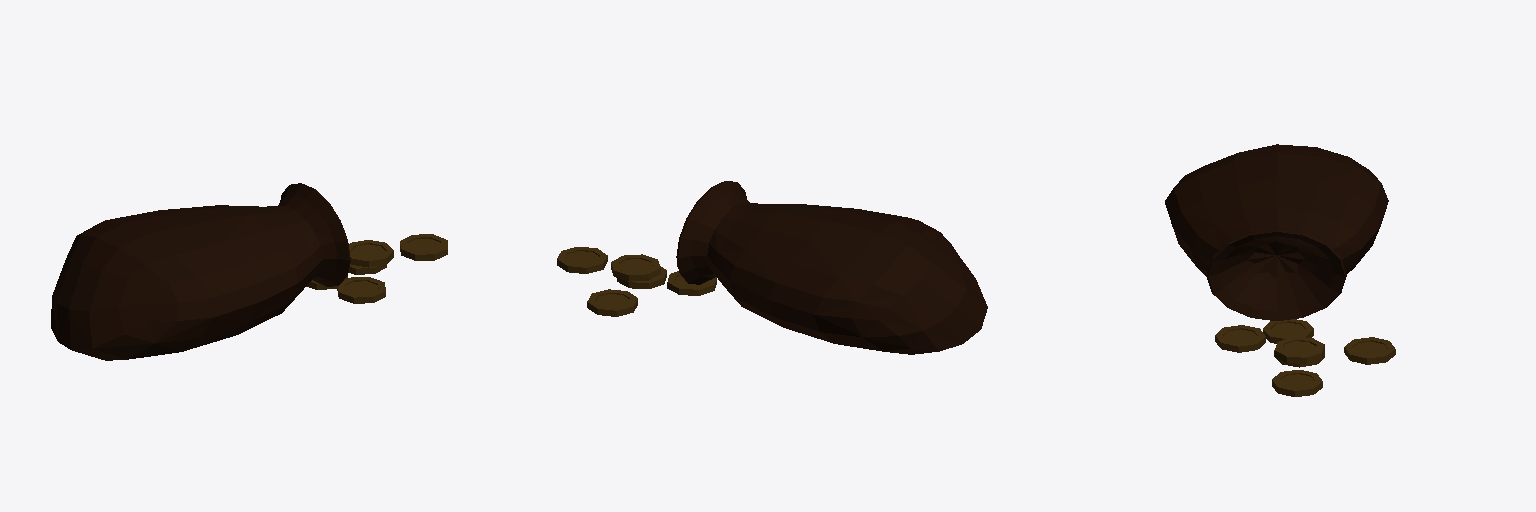
Rendered from Bag_Coins.obj.
The picture shows the model from 3 angles: view 1: azimuth 30°, elevation 25°; view 2: azimuth 150°, elevation 25°; view 3: azimuth 270°, elevation 25°; orthographic projection.
Visible parts, largest first — view 1: Bag_Coins_Cylinder.023; view 2: Bag_Coins_Cylinder.023; view 3: Bag_Coins_Cylinder.023.
Part boxes in pixels (left/top/right/bottom): Bag_Coins_Cylinder.023: left=51, top=183, right=447, bottom=360; Bag_Coins_Cylinder.023: left=557, top=181, right=987, bottom=354; Bag_Coins_Cylinder.023: left=1165, top=144, right=1395, bottom=396.
Bounding box in the file's own units: 0.442 × 0.1146 × 0.2222.